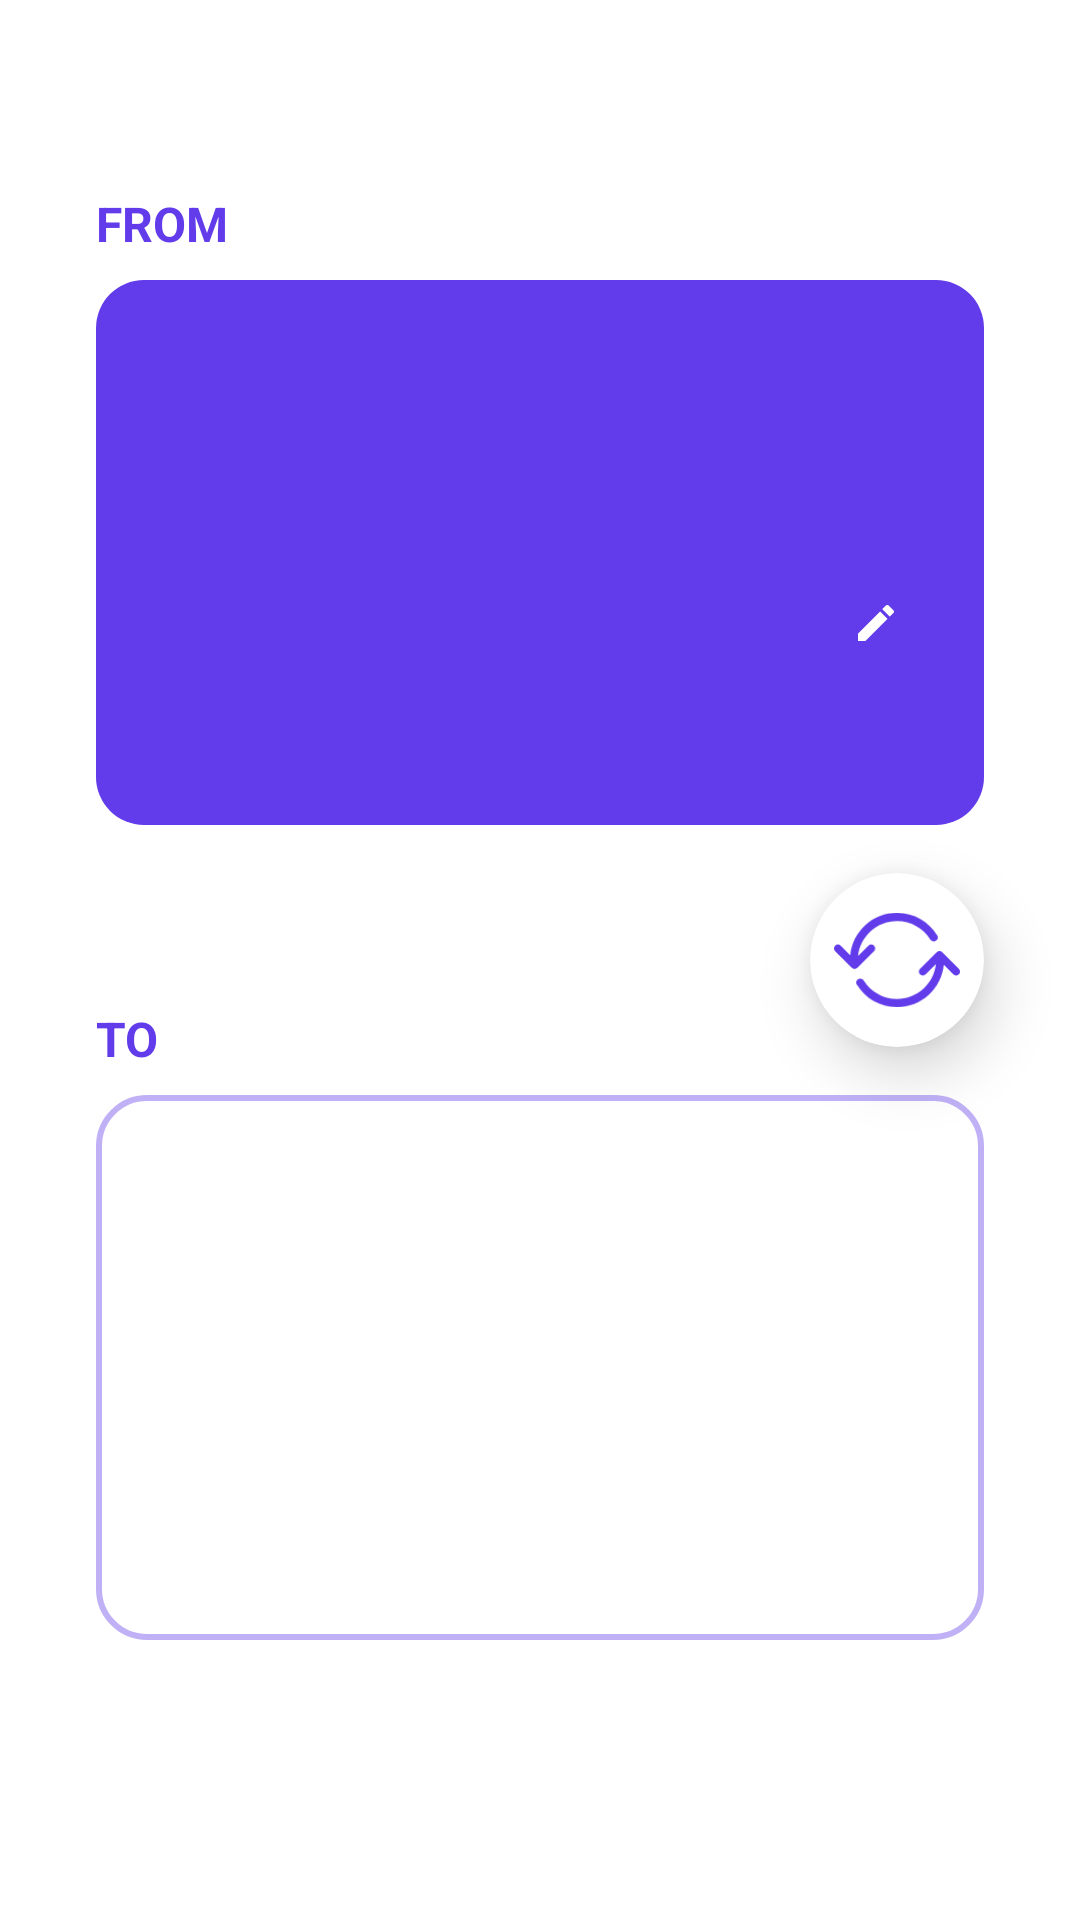

Where icons sit on this 1080×1920 app screen, as [x1,y1,x2,y2]:
Swap: [834,913,960,1007]
